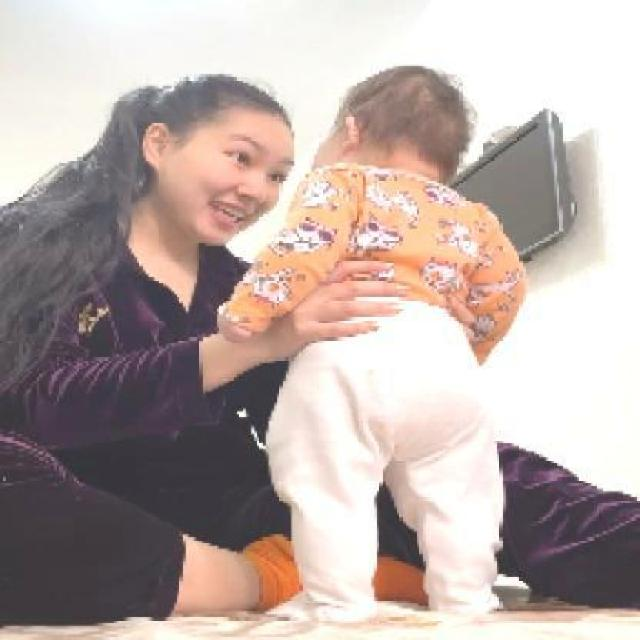child: (215, 64, 531, 619)
